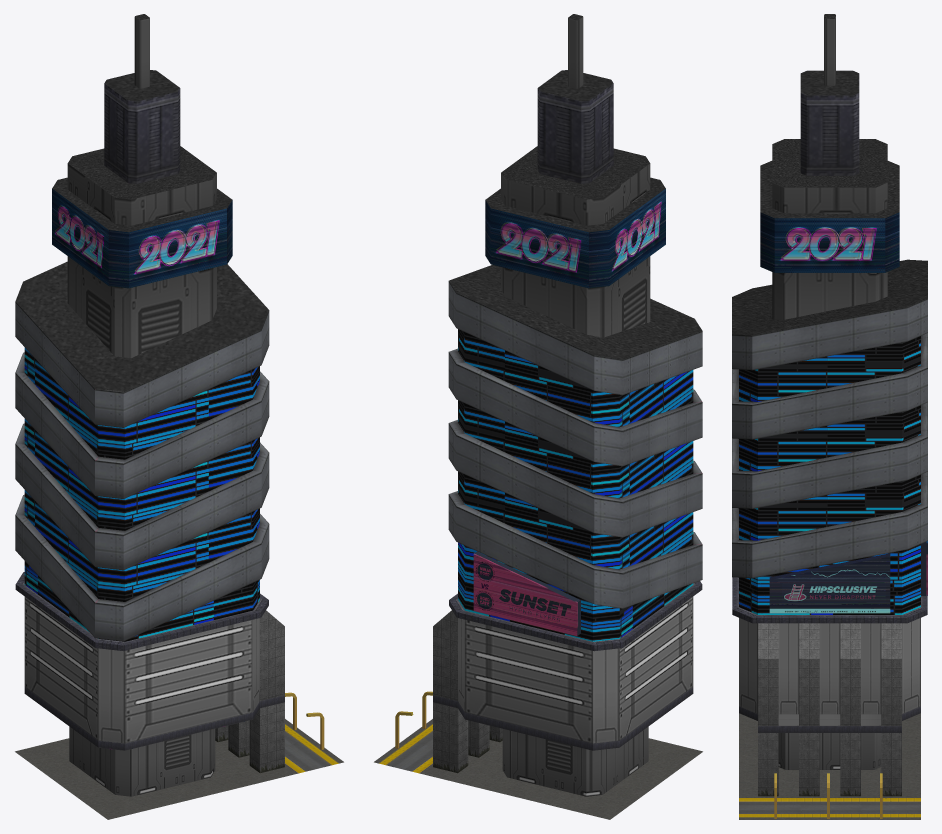
File: shellyGebouw3.fbx
3 renders of one model, left to right at view 1: azimuth 30°, elevation 25°; view 2: azimuth 150°, elevation 25°; view 3: azimuth 270°, elevation 25°, orthographic. The views are drawn at different scales.
Parts seen in each view (by area): view 1: Main; view 2: Main; view 3: Main.
Part boxes in pixels (x1,y1,x2,y2): Main: (15, 14, 343, 819); Main: (374, 14, 702, 819); Main: (732, 14, 927, 819).
Bounding box in the file's own units: 1250 × 3687 × 898.
